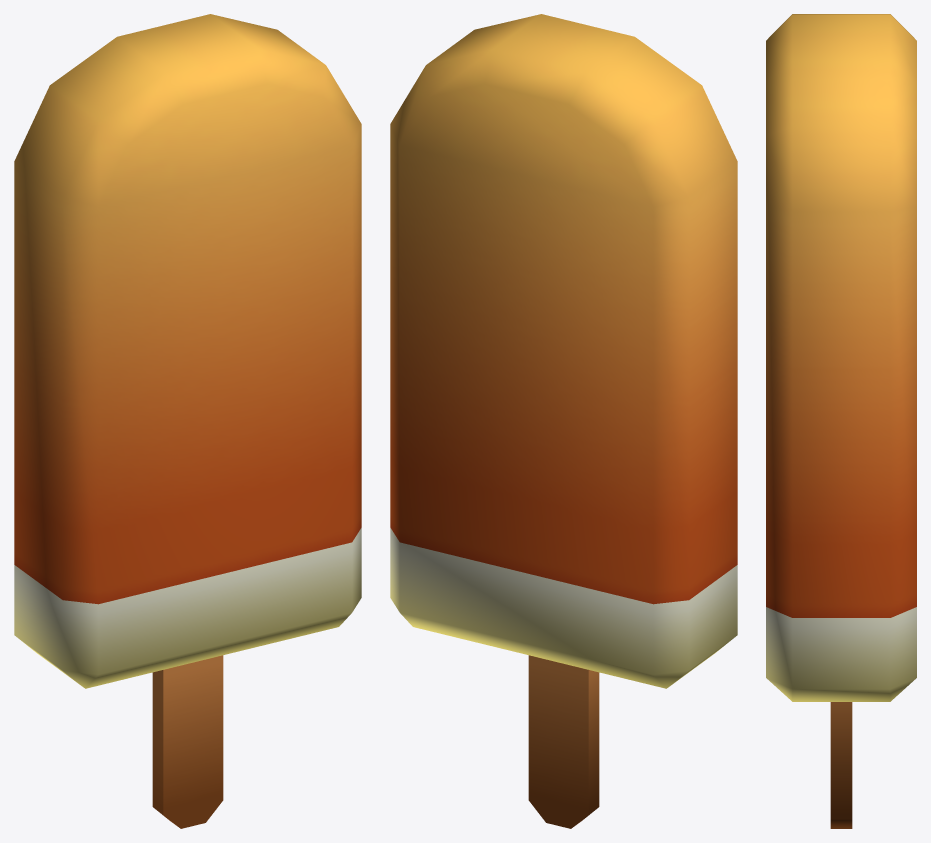
File: m_SimplePopsicle09.fbx
The picture shows the model from 3 angles, left to right: view 1: azimuth 30°, elevation 25°; view 2: azimuth 150°, elevation 25°; view 3: azimuth 270°, elevation 25°; orthographic projection.
Parts seen in each view (by area): view 1: m_SimplePopsicle09; view 2: m_SimplePopsicle09; view 3: m_SimplePopsicle09.
Part boxes in pixels (box(x1,y1,x2,y2)): m_SimplePopsicle09: box(14, 14, 361, 828); m_SimplePopsicle09: box(390, 14, 737, 828); m_SimplePopsicle09: box(766, 14, 916, 828).
Bounding box in the file's own units: 9.24 × 22.99 × 4.
